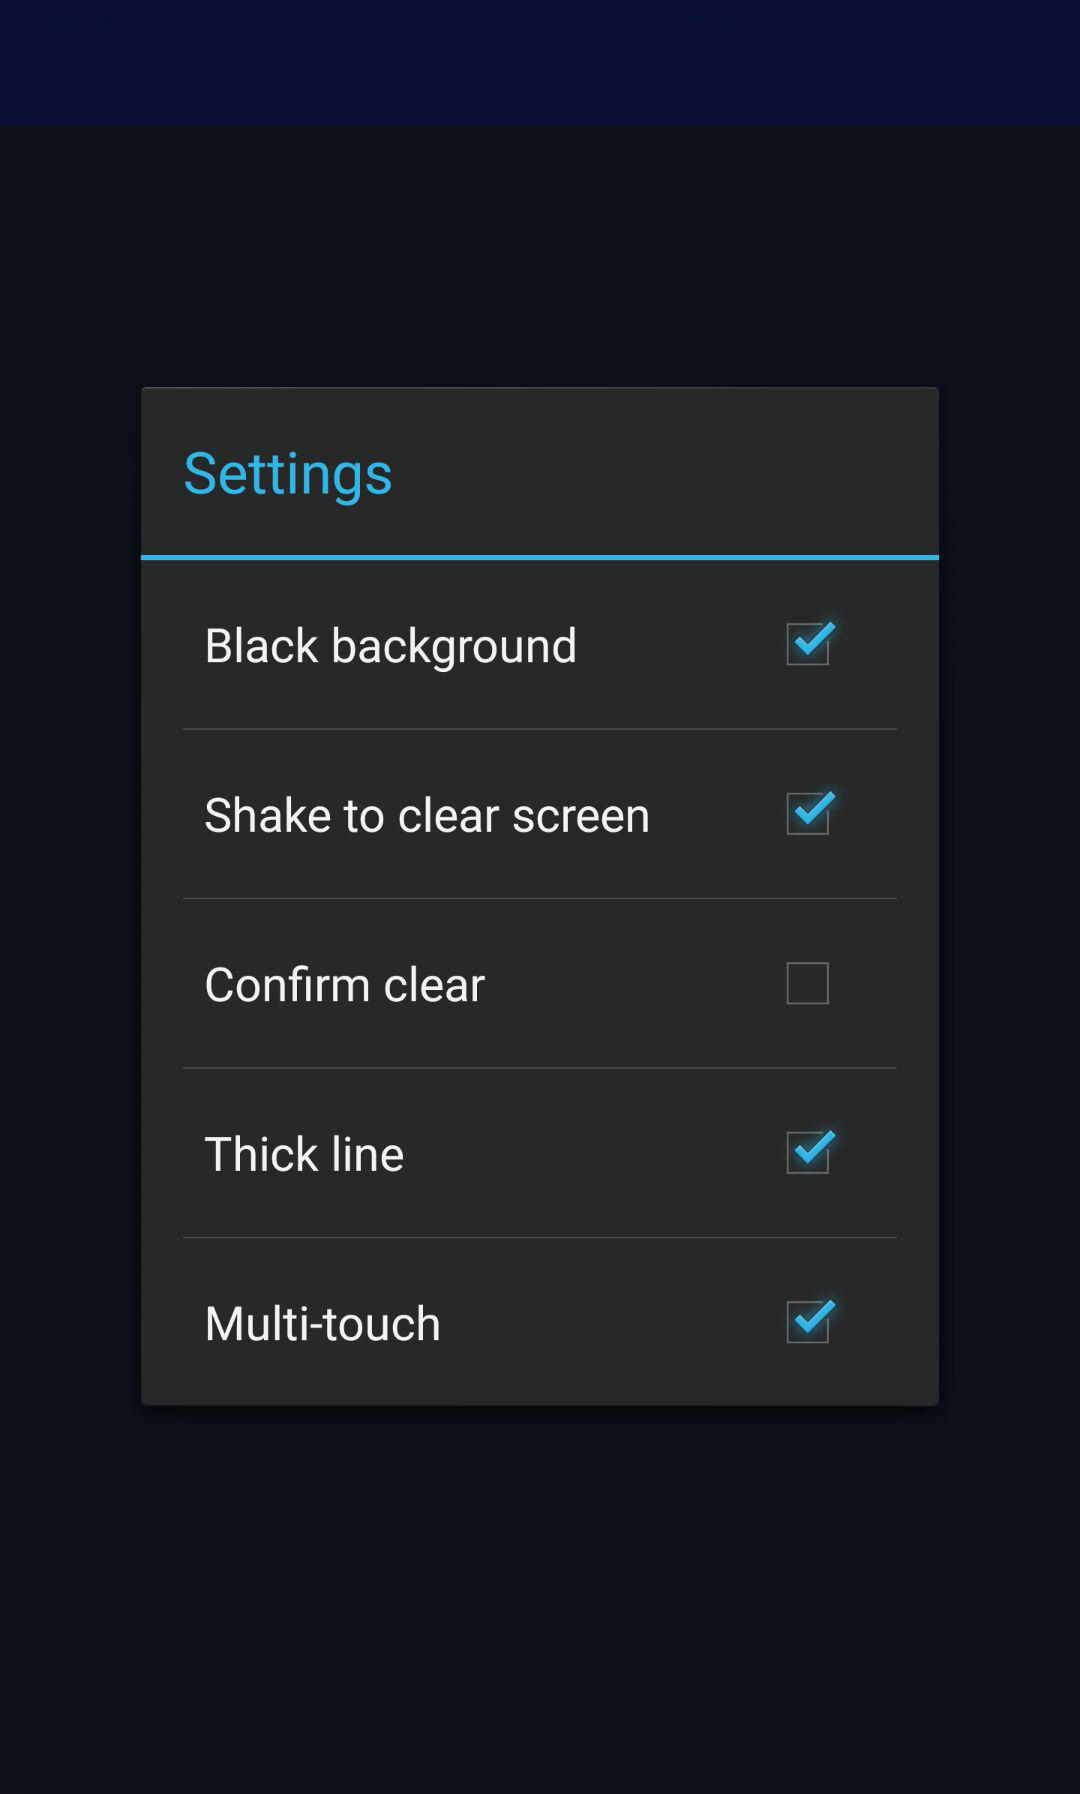CheckedTextView: (208, 621, 835, 673), (208, 1299, 835, 1344), (206, 792, 837, 835), (206, 1132, 835, 1175), (208, 962, 830, 1005)
Modal: (142, 387, 940, 1406)
Text: (206, 796, 650, 834), (208, 627, 577, 673), (184, 452, 393, 507), (208, 967, 486, 1003), (208, 1304, 441, 1343), (206, 1135, 404, 1173)
